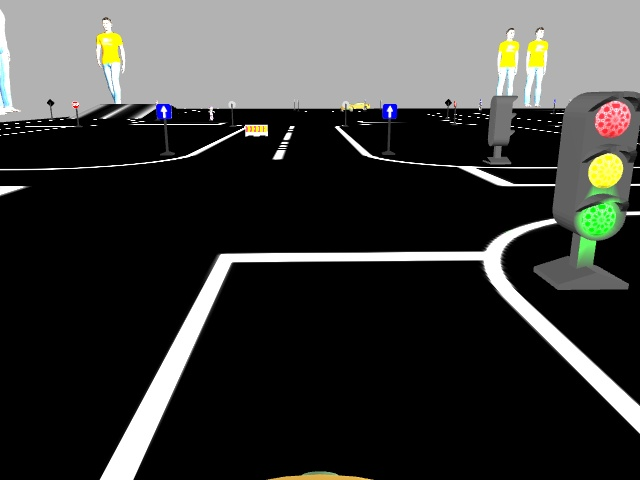ClosedRoadStand: (244, 125, 267, 137)
OneWay: (382, 103, 395, 118), (157, 103, 169, 119)
TrafficLight: (553, 85, 636, 238)
